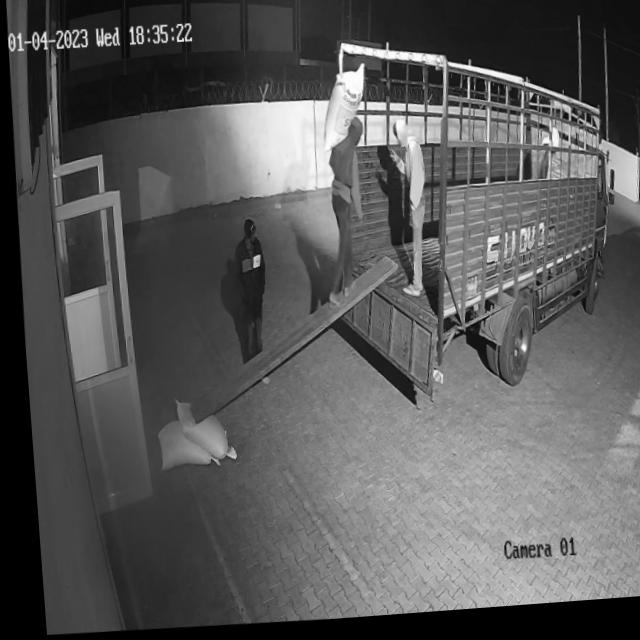sack: (316, 65, 367, 156), (166, 396, 231, 466), (148, 418, 211, 472)
